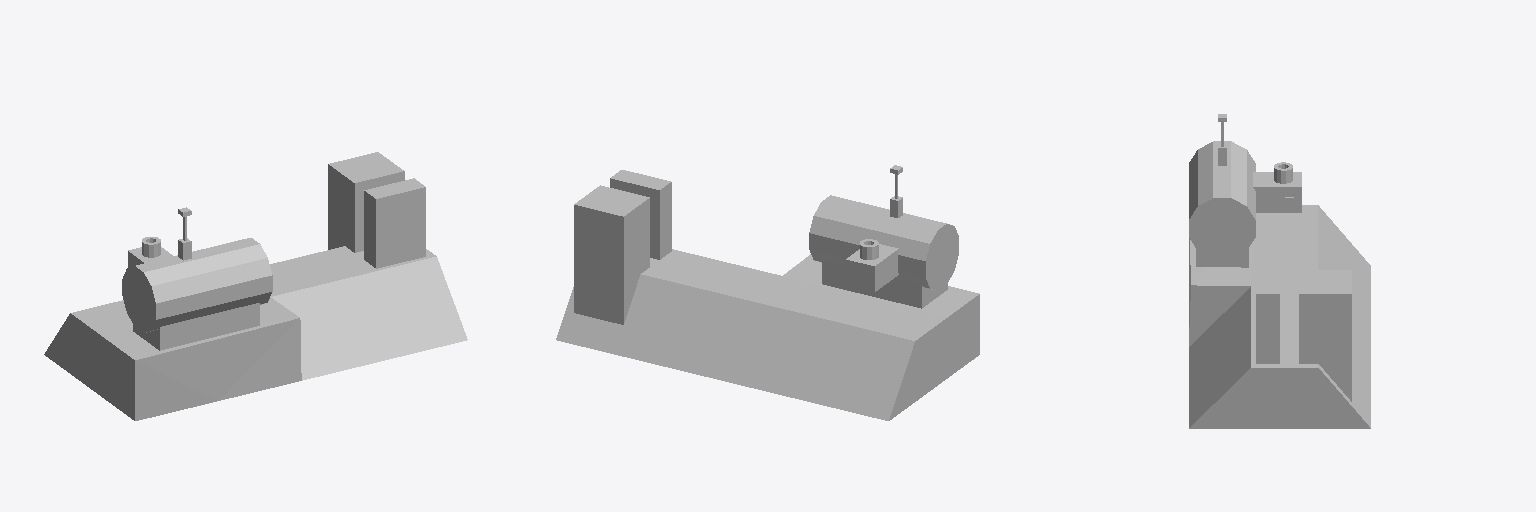
File: steam_engine_base_mirrored.obj
3 views of the same model, side by side, from view 1: azimuth 30°, elevation 25°; view 2: azimuth 150°, elevation 25°; view 3: azimuth 270°, elevation 25° (orthographic).
Visible parts, largest first — view 1: cube, cylinder; view 2: cube, cylinder; view 3: cube, cylinder.
Boxes of the visible parts, x1=… form: cube: x1=44, y1=152, x2=467, y2=420; cylinder: x1=122, y1=238, x2=272, y2=332; cube: x1=556, y1=165, x2=979, y2=420; cylinder: x1=809, y1=195, x2=958, y2=290; cube: x1=1189, y1=114, x2=1370, y2=428; cylinder: x1=1189, y1=141, x2=1255, y2=258.
Size of the model in its own units: 5 by 2.62 by 2.38.